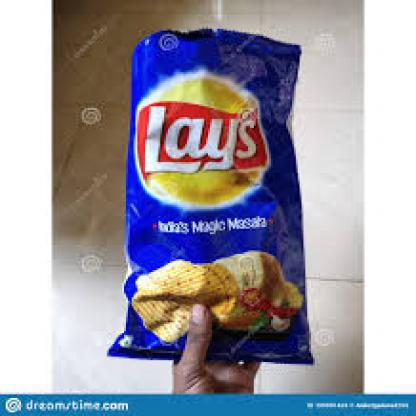indian_magic_masala: (107, 29, 307, 364)
